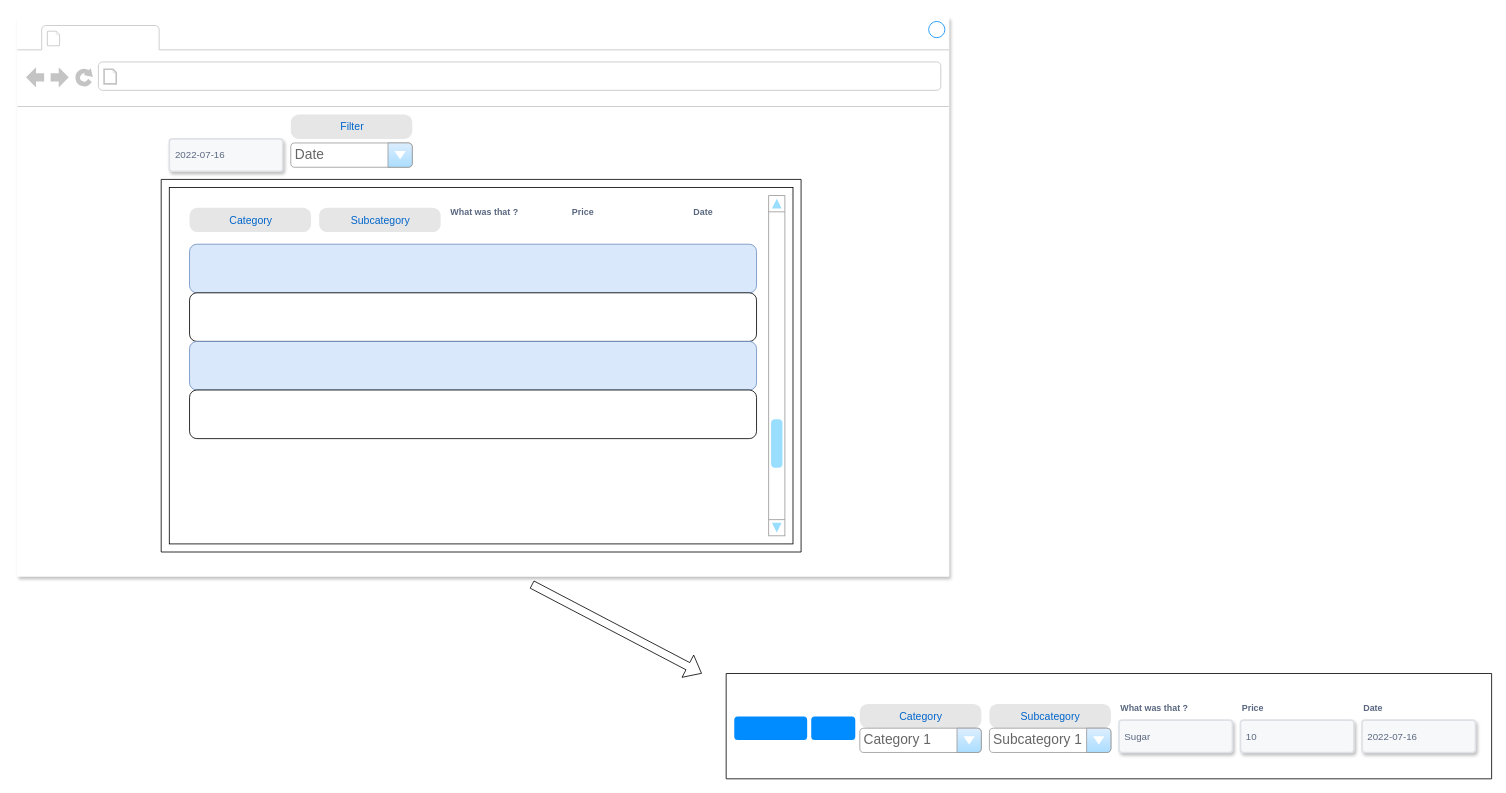
Some shapes in this 1506 by 793 pixel diagram are drawn without their labels. The shapes that lost their labels are listed below. From the top down, each one's centre as x and y in pixels, then its label:
At [110,37]: "Page 1".
At [223,76]: "https://www.example.com".
At [770,728]: "BACK".
At [833,728]: "OK".
